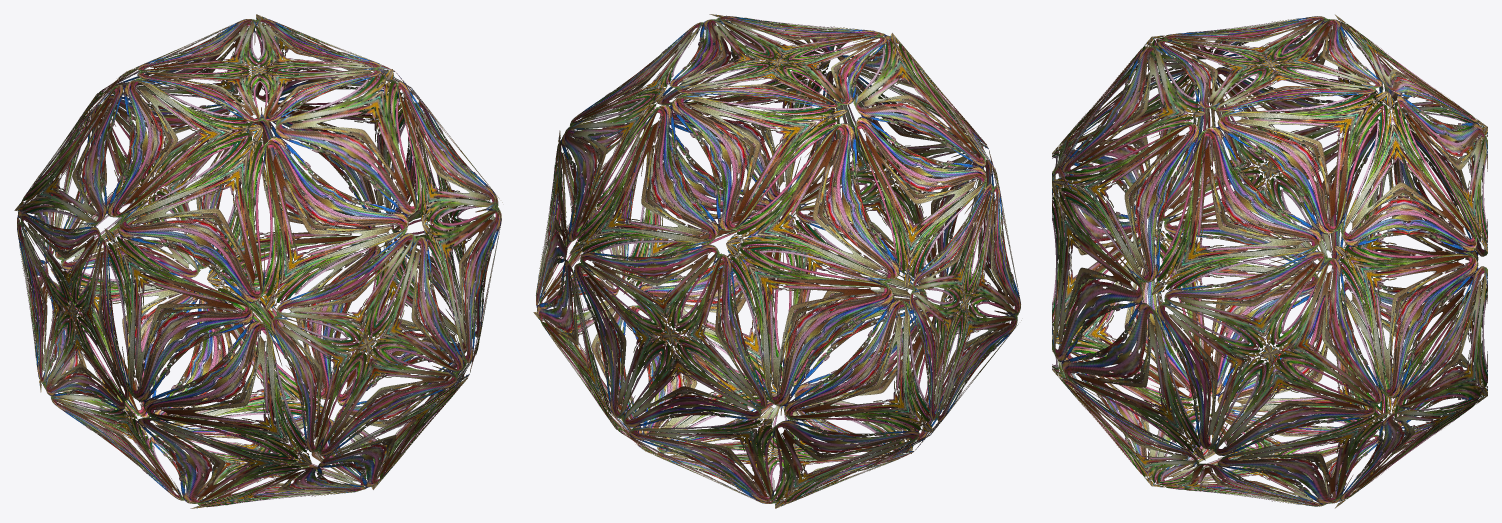
File: SnubCube9.gltf
3 views of the same model, side by side, from view 1: azimuth 30°, elevation 25°; view 2: azimuth 150°, elevation 25°; view 3: azimuth 270°, elevation 25° (orthographic).
Parts seen in each view (by area): view 1: SnubCube9; view 2: SnubCube9; view 3: SnubCube9.
Boxes of the visible parts, box(x1,y1,x2,y2) form: SnubCube9: box(14, 14, 502, 508); SnubCube9: box(533, 14, 1021, 508); SnubCube9: box(1052, 14, 1487, 508).
Size of the model in its own units: 2.29 by 2.29 by 2.29.
Materials: 1 (1 with a texture image).
